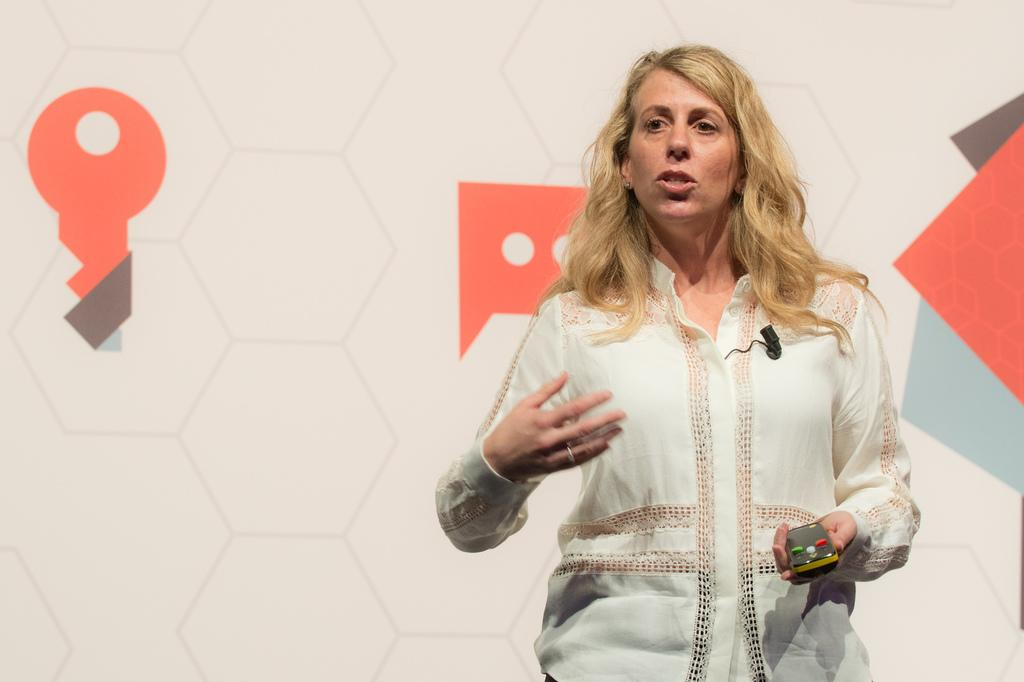Sem Máscara: (624, 59, 742, 218)
